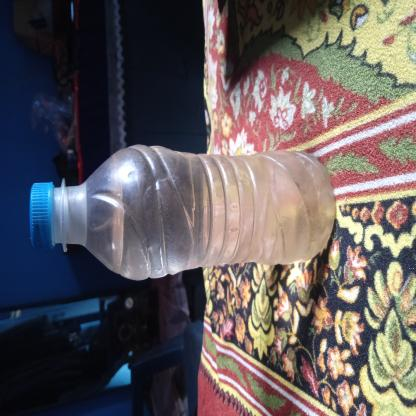bottle: (100, 36, 206, 416)
